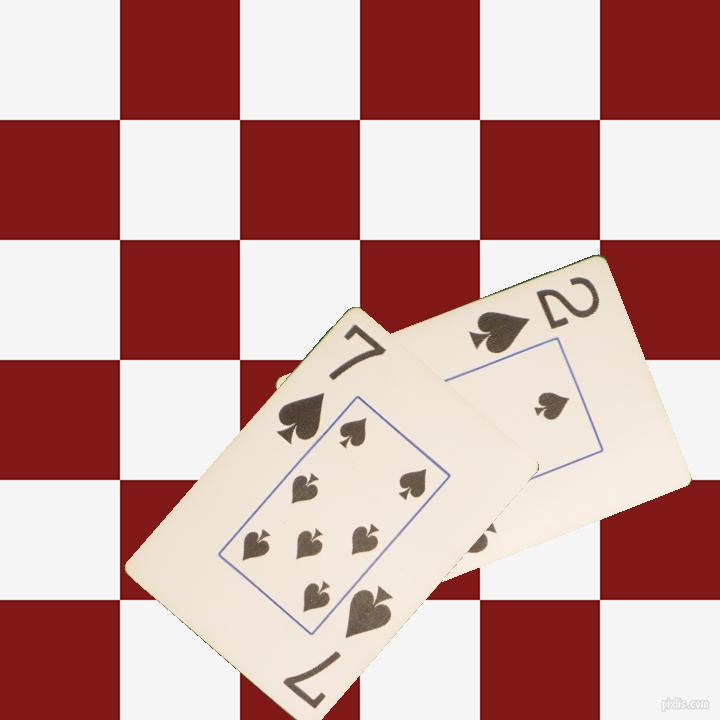2s: (465, 273, 603, 358)
7s: (278, 583, 397, 713), (273, 321, 389, 448)
